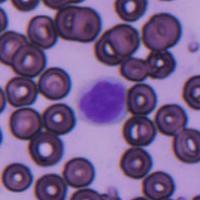L: (76, 75, 126, 125)
